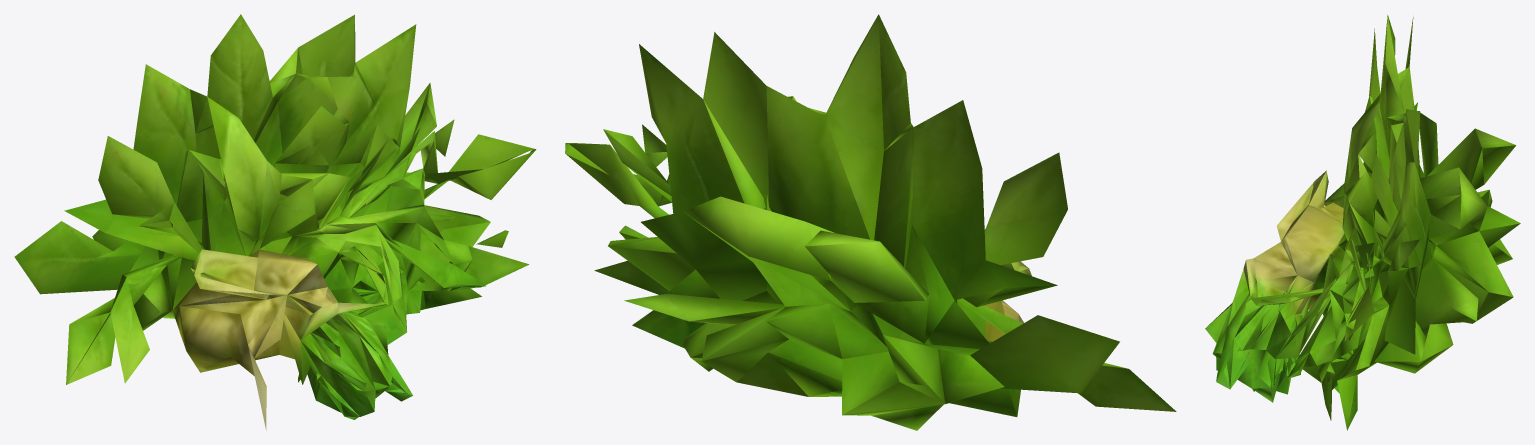
The model's file is herbBundle.glb.
3 views of the same model, side by side, from view 1: azimuth 30°, elevation 25°; view 2: azimuth 150°, elevation 25°; view 3: azimuth 270°, elevation 25° (orthographic). The views are drawn at different scales.
Parts seen in each view (by area): view 1: model; view 2: model; view 3: model.
Part boxes in pixels (x1=…): model: x1=14, y1=14, x2=536, y2=430; model: x1=565, y1=14, x2=1176, y2=430; model: x1=1205, y1=15, x2=1520, y2=430.
Bounding box in the file's own units: 1.84 × 1.34 × 1.06.
1 material, 1 textured.
